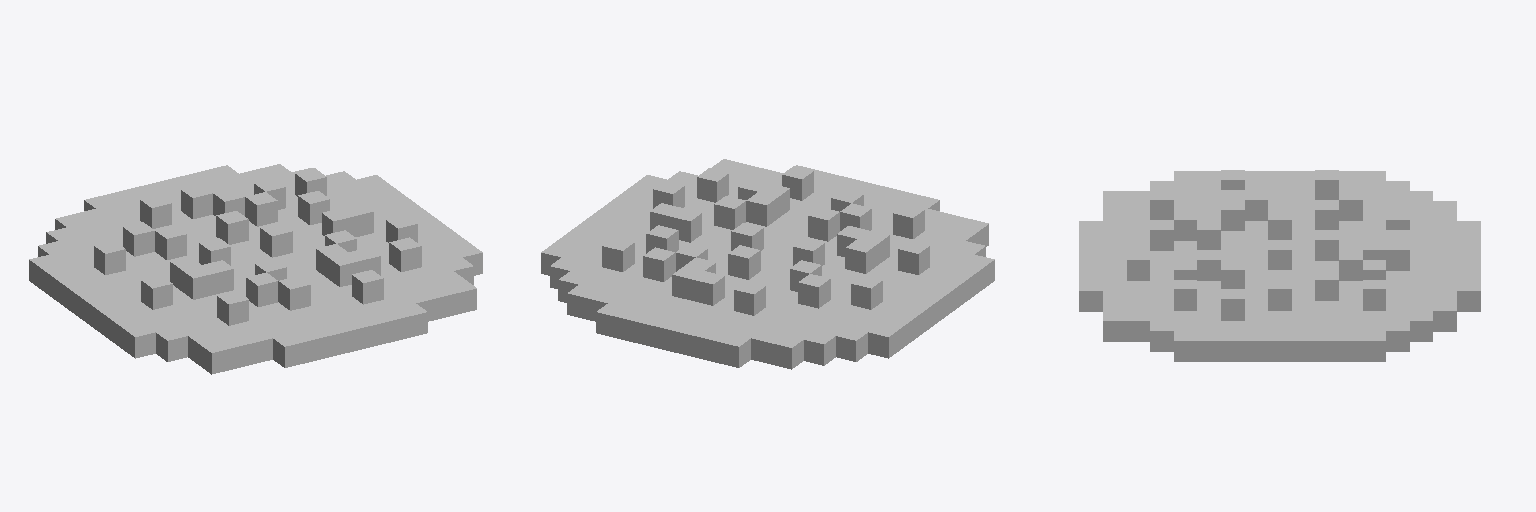
File: pizza0a.obj
The picture shows the model from 3 angles: view 1: azimuth 30°, elevation 25°; view 2: azimuth 150°, elevation 25°; view 3: azimuth 270°, elevation 25°; orthographic projection.
Size of the model in its own units: 0.85 by 0.1 by 0.85.